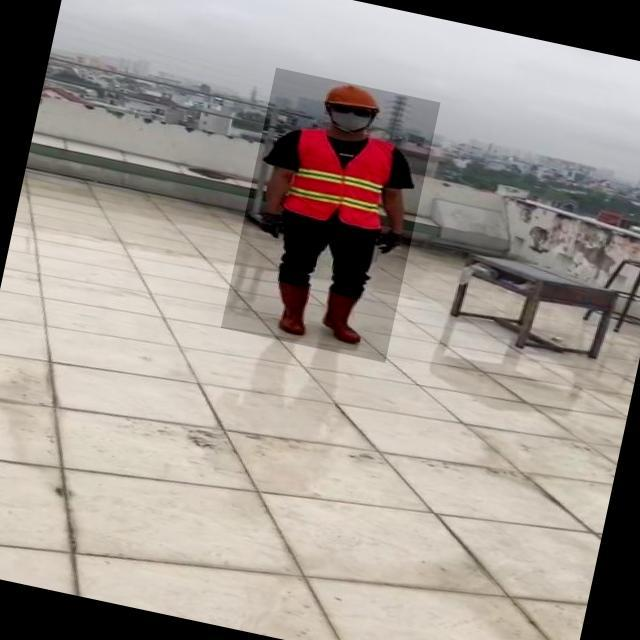Helmet: (323, 79, 383, 114)
Human: (220, 68, 440, 363)
Safety Boot: (317, 289, 369, 344), (269, 280, 318, 337)
Safety Vest: (283, 124, 401, 231)
